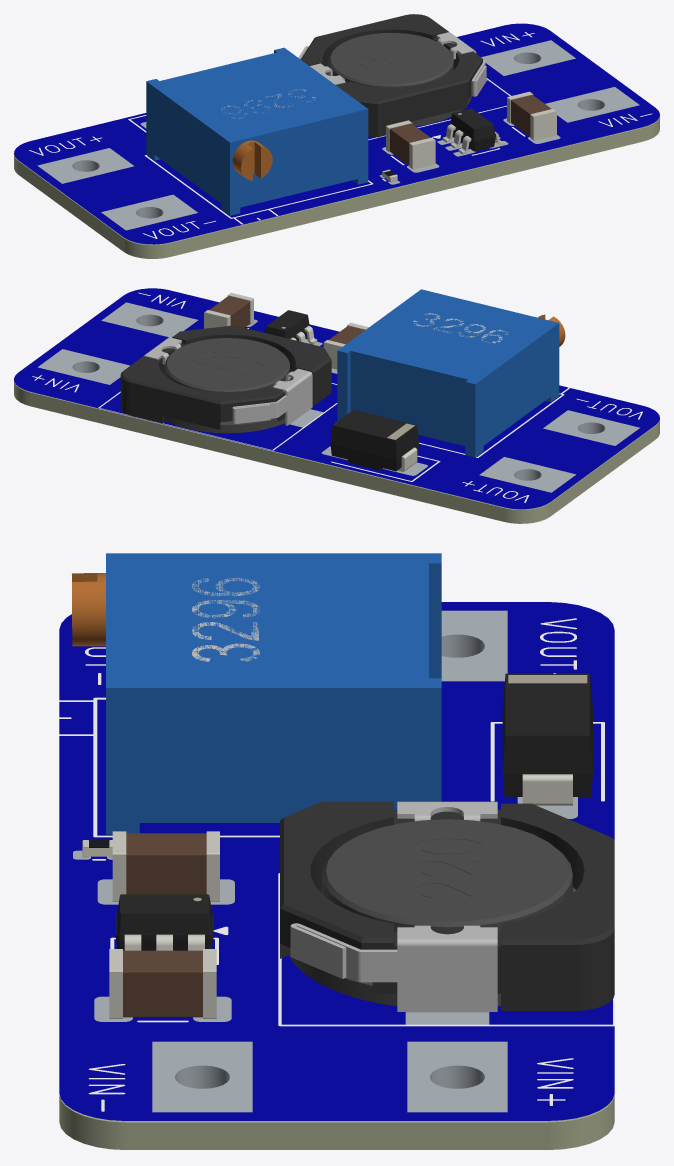
The picture shows the model from 3 angles, top to bottom: view 1: azimuth 30°, elevation 25°; view 2: azimuth 150°, elevation 25°; view 3: azimuth 270°, elevation 25°; orthographic projection. The views are drawn at different scales.
Parts seen in each view (by area): view 1: MT3608_soldermask, Potentiometer_Bourns_3296P_Horizontal, 45281 (1), MT3608_PCB, MT3608_pad, C_1206_3216Metric, C_1206_3216Metric001, SOT-23-6, MT3608_silkscreen; view 2: Potentiometer_Bourns_3296P_Horizontal, MT3608_soldermask, 45281 (1), MT3608_PCB, MT3608_pad, D_SMA, MT3608_silkscreen, C_1206_3216Metric001, SOT-23-6, C_1206_3216Metric; view 3: MT3608_soldermask, Potentiometer_Bourns_3296P_Horizontal, 45281 (1), MT3608_pad, MT3608_PCB, D_SMA, C_1206_3216Metric001, C_1206_3216Metric, MT3608_silkscreen, SOT-23-6.
Part boxes in pixels (<box>): MT3608_soldermask: <box>14,23,659,244</box>; Potentiometer_Bourns_3296P_Horizontal: <box>146,47,368,215</box>; 45281 (1): <box>298,14,486,137</box>; MT3608_PCB: <box>14,40,659,258</box>; MT3608_pad: <box>38,40,639,230</box>; C_1206_3216Metric: <box>386,120,435,169</box>; C_1206_3216Metric001: <box>507,91,556,140</box>; SOT-23-6: <box>442,108,503,154</box>; MT3608_silkscreen: <box>29,32,652,238</box>; Potentiometer_Bourns_3296P_Horizontal: <box>337,289,565,457</box>; MT3608_soldermask: <box>14,288,659,509</box>; 45281 (1): <box>120,325,331,433</box>; MT3608_PCB: <box>14,302,659,523</box>; MT3608_pad: <box>38,302,639,492</box>; D_SMA: <box>330,410,419,471</box>; MT3608_silkscreen: <box>32,292,642,502</box>; C_1206_3216Metric001: <box>204,292,253,328</box>; SOT-23-6: <box>265,310,317,344</box>; C_1206_3216Metric: <box>323,322,368,369</box>; MT3608_soldermask: <box>59,602,614,1120</box>; Potentiometer_Bourns_3296P_Horizontal: <box>72,553,441,834</box>; 45281 (1): <box>280,801,614,1012</box>; MT3608_pad: <box>73,611,577,1112</box>; MT3608_PCB: <box>59,610,614,1149</box>; D_SMA: <box>502,673,592,805</box>; C_1206_3216Metric001: <box>109,949,216,1018</box>; C_1206_3216Metric: <box>112,831,219,901</box>; MT3608_silkscreen: <box>59,618,614,1111</box>; SOT-23-6: <box>116,894,213,950</box>.
Bounding box in the file's own units: 0.0367 × 0.00666 × 0.0166.
